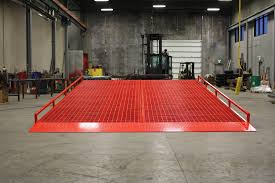Yard Ramp: (28, 72, 256, 137)
